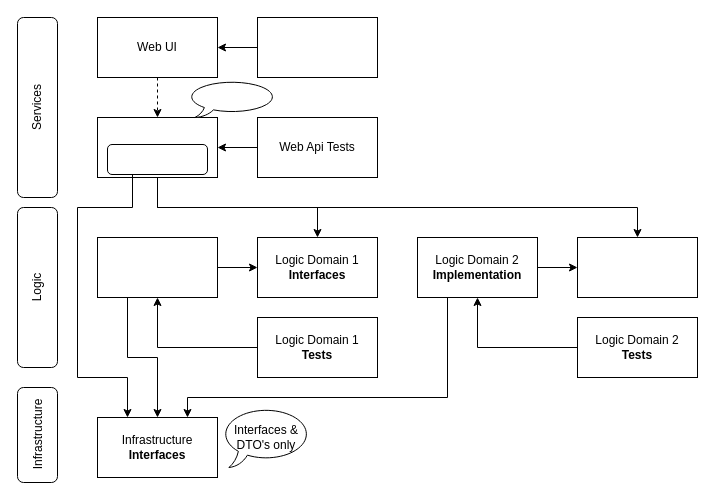
Image size: 715x500. Some labels were removed from this diagram. Each missing label, with the box of its shape:
Host: (186, 80, 278, 118)
Infrastructure [implementation]: (106, 144, 208, 174)
Logic Domain 1 Implementation: (96, 236, 218, 298)
Logic Domain 2 Interfaces: (576, 236, 698, 298)
Web Api: (96, 116, 218, 178)
Web UI Tests: (256, 16, 378, 78)
